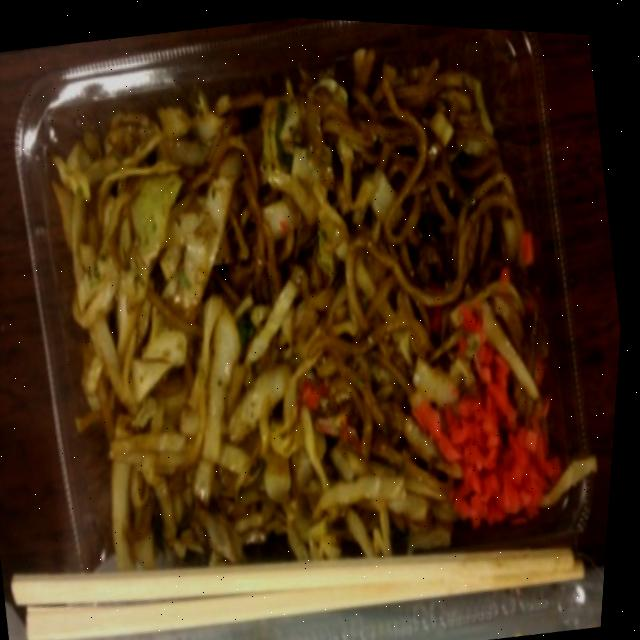面条主食: (11, 2, 610, 605)
